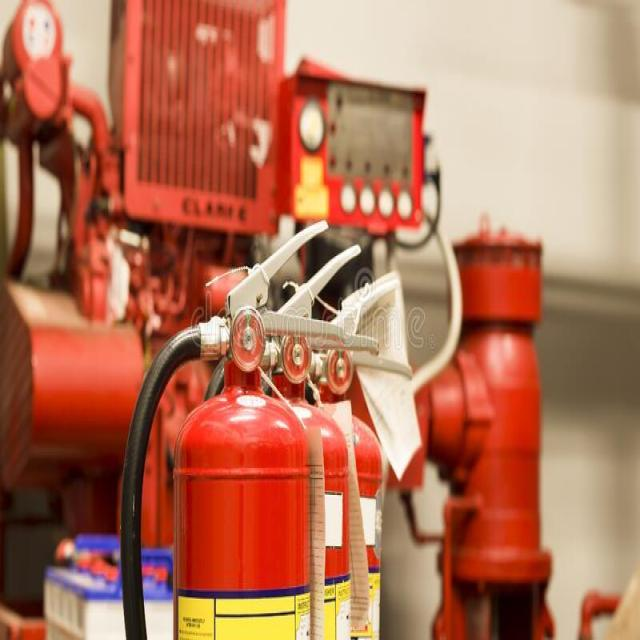fire_extinguisher: (114, 211, 348, 638), (196, 241, 382, 638), (274, 266, 416, 639)
